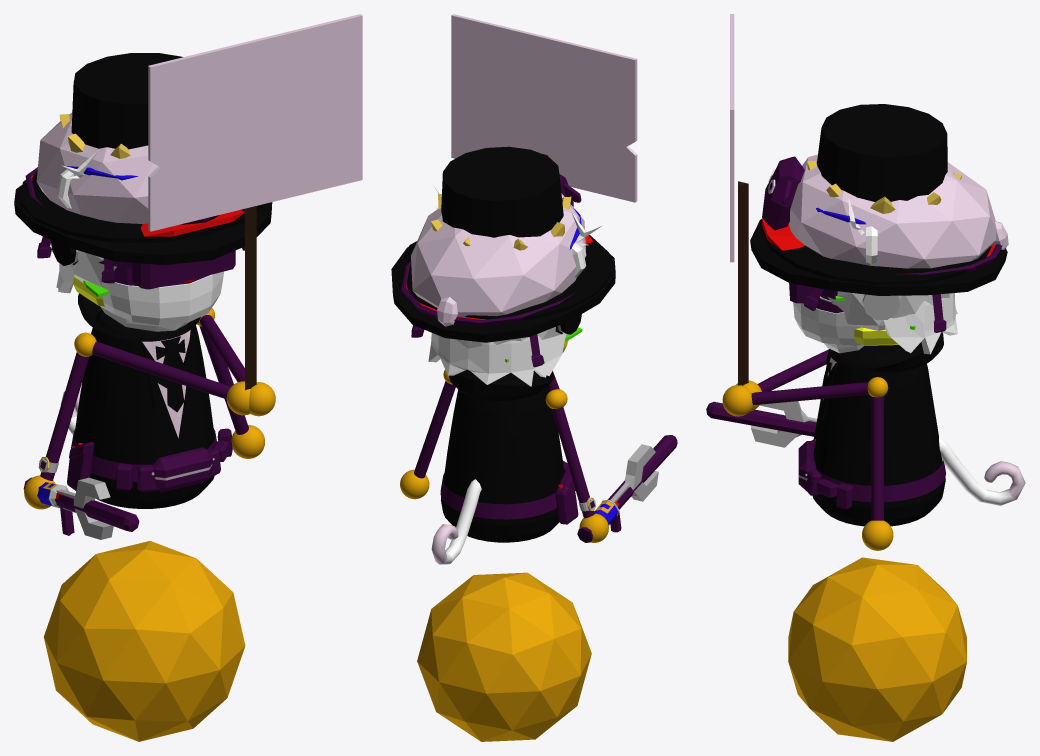
The model's file is beamlings.dae.
3 renders of one model, left to right at view 1: azimuth 30°, elevation 25°; view 2: azimuth 150°, elevation 25°; view 3: azimuth 270°, elevation 25°, orthographic. The views are drawn at different scales.
Parts seen in each view (by area): view 1: beamling_sign, beamling_ball, beamling_body, beamling_tophat, beamling_gavsheep, beamling_cowboyhat, beamling_arms_sign, beamling_helmet, beamling_arms, beamling_fannypack, beamling_toolbelt, beamling_vr (+8 smaller); view 2: beamling_sign, beamling_ball, beamling_body, beamling_gavsheep, beamling_tophat, beamling_arms, beamling_hair_1, beamling_cowboyhat, beamling_hood, beamling_tail_monkey, beamling_fannypack, beamling_baton (+6 smaller); view 3: beamling_ball, beamling_gavsheep, beamling_body, beamling_tophat, beamling_cowboyhat, beamling_arms_sign, beamling_sign, beamling_arms, beamling_fannypack, beamling_tail_monkey, beamling_monke, beamling_helmet (+11 smaller).
Boxes of the visible parts, x1=… form: beamling_sign: x1=148, y1=14, x2=362, y2=390; beamling_ball: x1=44, y1=541, x2=245, y2=741; beamling_body: x1=74, y1=309, x2=214, y2=508; beamling_tophat: x1=19, y1=53, x2=265, y2=242; beamling_gavsheep: x1=36, y1=112, x2=244, y2=283; beamling_cowboyhat: x1=14, y1=185, x2=272, y2=264; beamling_arms_sign: x1=75, y1=308, x2=275, y2=416; beamling_helmet: x1=101, y1=271, x2=223, y2=325; beamling_arms: x1=24, y1=317, x2=264, y2=509; beamling_fannypack: x1=71, y1=428, x2=216, y2=492; beamling_toolbelt: x1=67, y1=428, x2=232, y2=492; beamling_vr: x1=98, y1=250, x2=235, y2=289; beamling_sign: x1=451, y1=14, x2=637, y2=202; beamling_ball: x1=417, y1=572, x2=591, y2=741; beamling_body: x1=441, y1=369, x2=564, y2=542; beamling_gavsheep: x1=411, y1=174, x2=586, y2=367; beamling_tophat: x1=396, y1=146, x2=611, y2=319; beamling_arms: x1=400, y1=370, x2=608, y2=542; beamling_hair_1: x1=429, y1=333, x2=565, y2=386; beamling_cowboyhat: x1=391, y1=247, x2=615, y2=342; beamling_hood: x1=449, y1=370, x2=554, y2=400; beamling_tail_monkey: x1=431, y1=479, x2=481, y2=564; beamling_fannypack: x1=440, y1=460, x2=562, y2=519; beamling_baton: x1=577, y1=435, x2=677, y2=542; beamling_ball: x1=788, y1=557, x2=966, y2=741; beamling_gavsheep: x1=762, y1=154, x2=1008, y2=332; beamling_body: x1=812, y1=344, x2=945, y2=526; beamling_tophat: x1=762, y1=104, x2=991, y2=284; beamling_cowboyhat: x1=750, y1=218, x2=1007, y2=295; beamling_arms_sign: x1=722, y1=349, x2=885, y2=416; beamling_sign: x1=730, y1=14, x2=748, y2=385; beamling_arms: x1=862, y1=377, x2=893, y2=550; beamling_fannypack: x1=798, y1=441, x2=945, y2=502; beamling_tail_monkey: x1=939, y1=437, x2=1025, y2=505; beamling_monke: x1=828, y1=226, x2=950, y2=330; beamling_helmet: x1=793, y1=302, x2=861, y2=345.
Bounding box in the file's own units: 0.8646 × 1 × 2.39.
